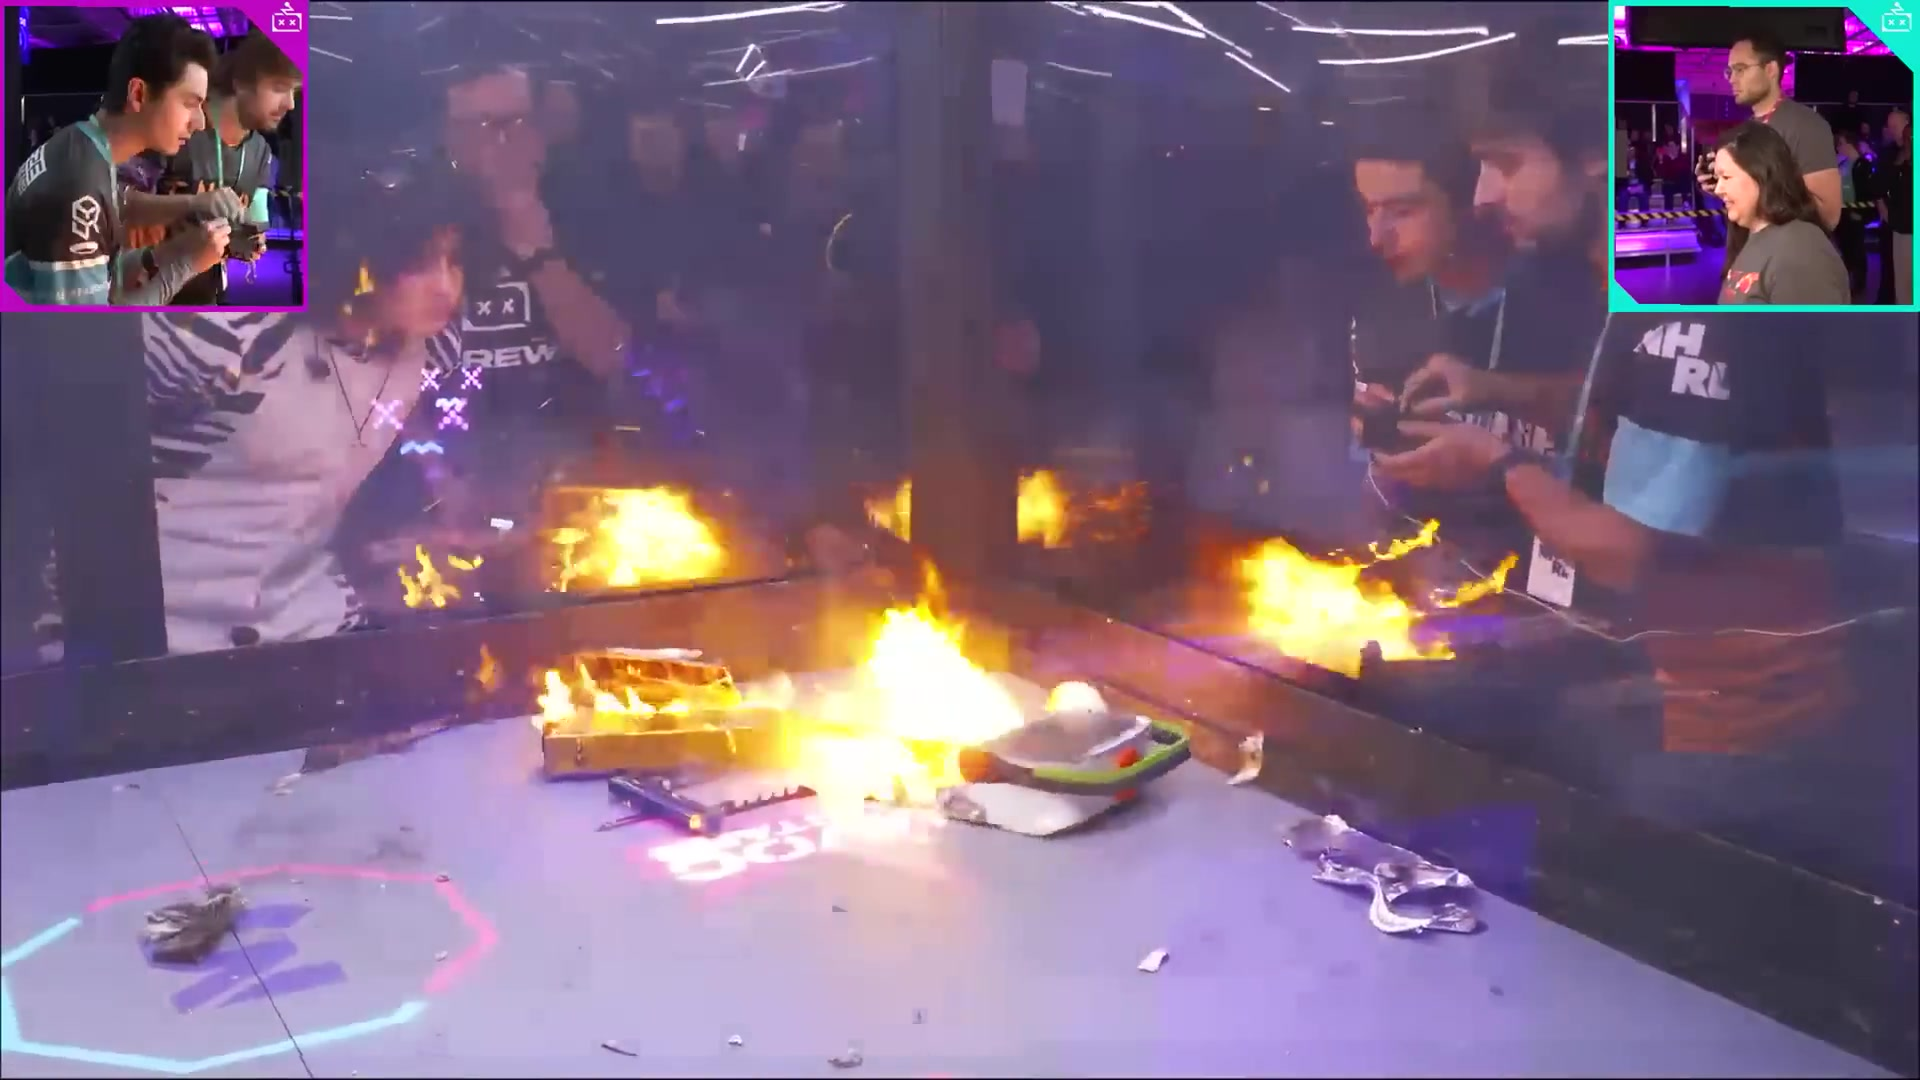combatbot: (945, 709, 1191, 844), (546, 641, 782, 764)
debris: (1283, 818, 1490, 943), (291, 704, 480, 775), (145, 886, 241, 957)
minibot: (599, 769, 819, 843)
